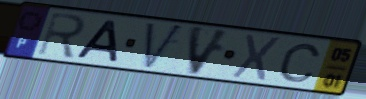A: (73, 18, 120, 65)
C: (276, 42, 324, 84)
R: (35, 10, 87, 61)
V: (185, 23, 234, 78), (141, 21, 187, 72)
X: (228, 33, 284, 84)
